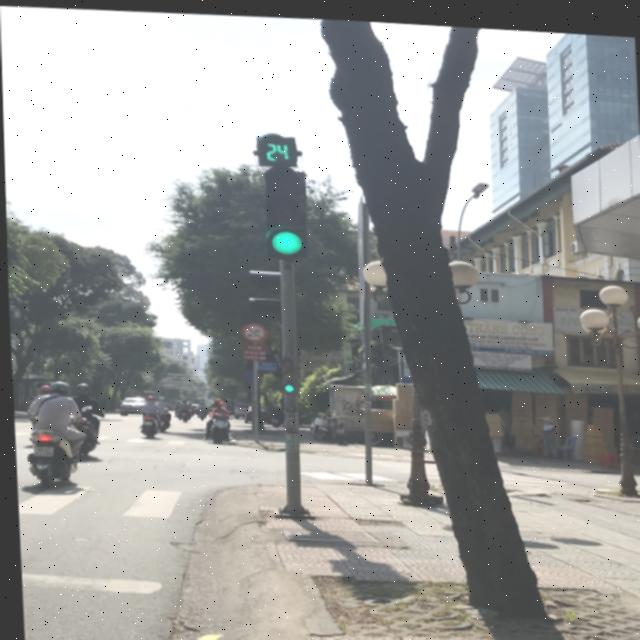Green: (256, 162, 318, 256)
